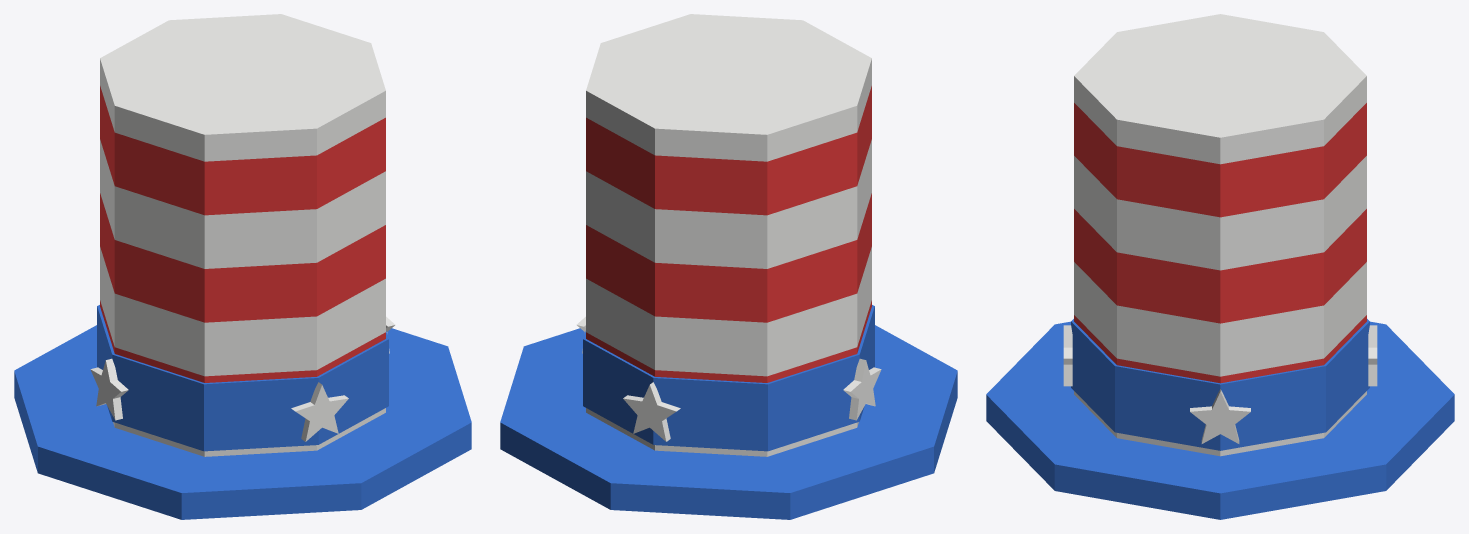
File: StarTopHat.fbx
The picture shows the model from 3 angles, left to right: view 1: azimuth 30°, elevation 25°; view 2: azimuth 150°, elevation 25°; view 3: azimuth 270°, elevation 25°; orthographic projection.
Parts seen in each view (by area): view 1: StarTopHat; view 2: StarTopHat; view 3: StarTopHat.
Boxes of the visible parts, bbox=[...] form: StarTopHat: bbox=[14, 14, 471, 519]; StarTopHat: bbox=[500, 14, 957, 519]; StarTopHat: bbox=[986, 14, 1454, 519].
Bounding box in the file's own units: 3.2 × 2.6 × 3.2.
1 material, 1 textured.
